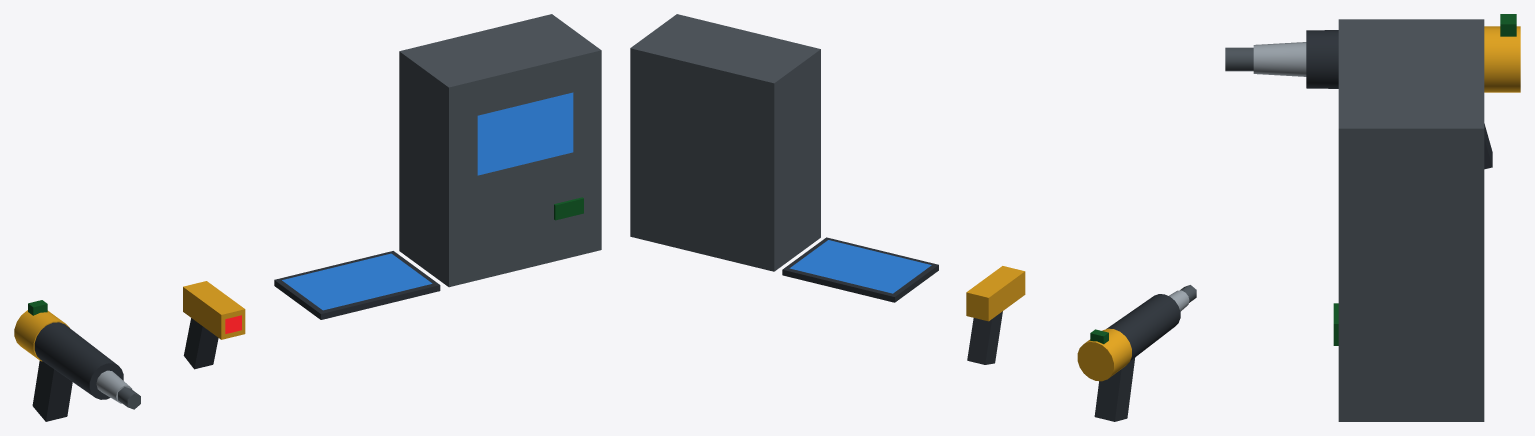
File: tools.glb
3 views of the same model, side by side, from view 1: azimuth 30°, elevation 25°; view 2: azimuth 150°, elevation 25°; view 3: azimuth 270°, elevation 25° (orthographic). The views are drawn at different scales.
Parts seen in each view (by area): view 1: TorqueController__SteelDark, TorqueController__Screen, Nutrunner__ToolBody, Tablet__Screen, Scanner__ToolAccent, Tablet__ToolBody, Scanner__ToolBody, Nutrunner__ToolAccent, Nutrunner__Steel; view 2: TorqueController__SteelDark, Tablet__Screen, Nutrunner__ToolBody, Scanner__ToolAccent, Tablet__ToolBody, Nutrunner__ToolAccent, Scanner__ToolBody; view 3: TorqueController__SteelDark, Nutrunner__ToolAccent, Nutrunner__ToolBody, Nutrunner__Steel, Nutrunner__SteelDark, Nutrunner__AndonGreen.
Part boxes in pixels (x1,y1,x2,y2): TorqueController__SteelDark: (399, 14, 601, 287); TorqueController__Screen: (477, 92, 573, 175); Nutrunner__ToolBody: (32, 322, 123, 421); Tablet__Screen: (282, 253, 432, 310); Scanner__ToolAccent: (183, 281, 245, 339); Tablet__ToolBody: (274, 251, 440, 319); Scanner__ToolBody: (183, 318, 218, 369); Nutrunner__ToolAccent: (14, 310, 69, 361); Nutrunner__Steel: (96, 370, 132, 403); TorqueController__SteelDark: (630, 14, 820, 271); Tablet__Screen: (789, 240, 931, 293); Nutrunner__ToolBody: (1094, 294, 1180, 421); Scanner__ToolAccent: (966, 266, 1025, 321); Tablet__ToolBody: (782, 237, 938, 302); Nutrunner__ToolAccent: (1077, 328, 1131, 381); Scanner__ToolBody: (967, 311, 1002, 364); TorqueController__SteelDark: (1338, 19, 1484, 421); Nutrunner__ToolAccent: (1484, 26, 1520, 92); Nutrunner__ToolBody: (1306, 30, 1492, 169); Nutrunner__Steel: (1253, 42, 1306, 76); Nutrunner__SteelDark: (1225, 47, 1253, 71); Nutrunner__AndonGreen: (1500, 14, 1516, 36).
Bounding box in the file's own units: 1.1 × 0.5492 × 0.365.
